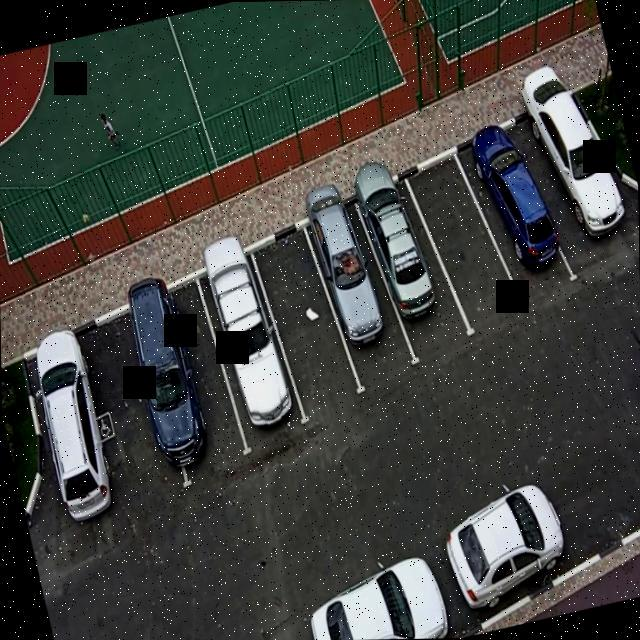car: (134, 270, 246, 482), (458, 105, 570, 316), (193, 245, 306, 447), (360, 146, 460, 372), (84, 304, 189, 514), (313, 172, 408, 404), (24, 328, 130, 524), (520, 88, 631, 257)
free: (409, 135, 520, 345), (256, 219, 358, 437)
